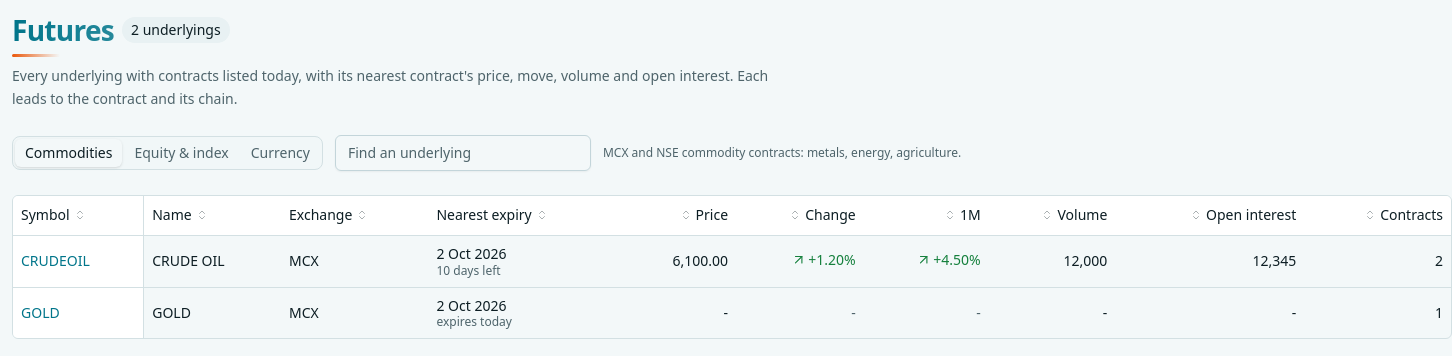
Scenario: Futures › switches family and narrows by typed letters
Expected: the link "CRUDEOIL" is shown, [21,251,90,270]
Click the button "Currency": (280, 152) [241,138,320,166]
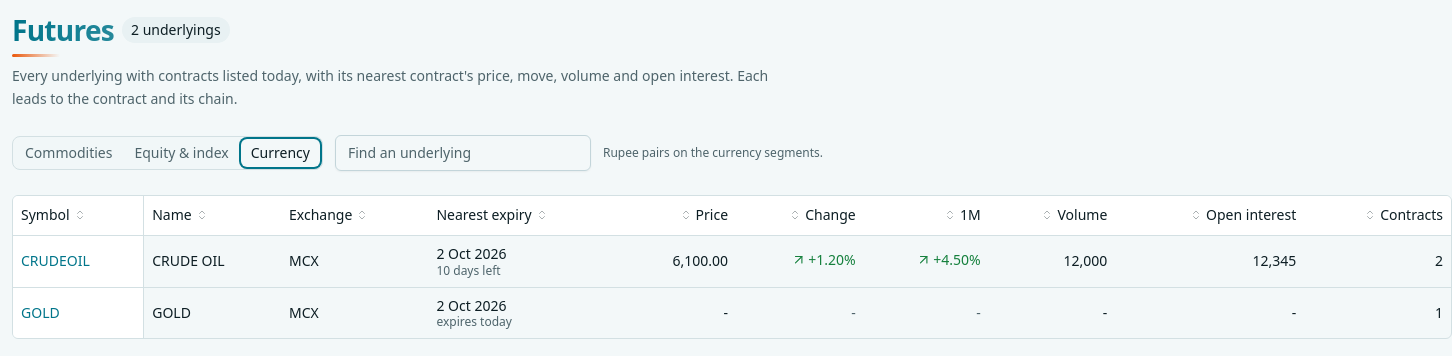
Result: the text "Rupee pairs on the currency segments." is shown at [603,144,823,160]
In the search field labelled "Find an underlying": (463, 152) [335,134,591,170], type "gol"
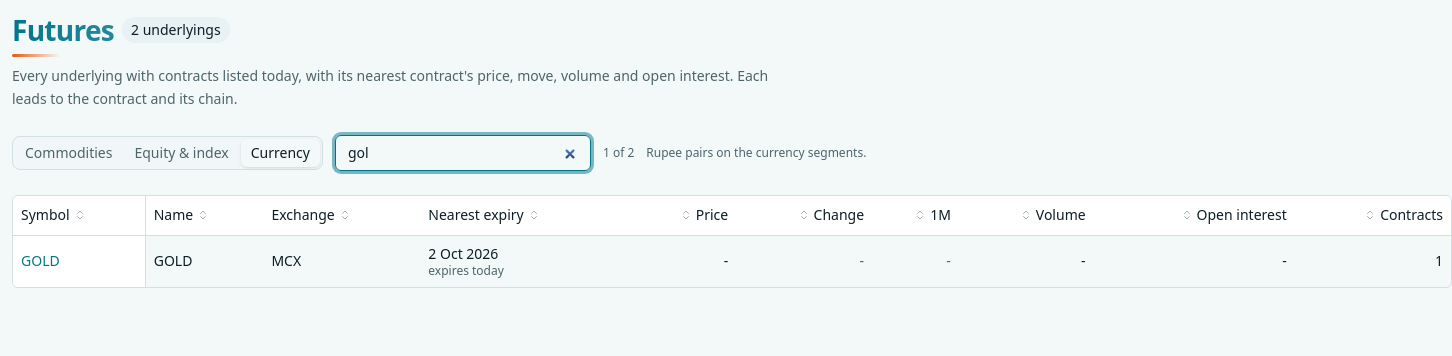
Result: the link "CRUDEOIL" is gone
Result: the link "GOLD" is shown at [21,251,60,270]
